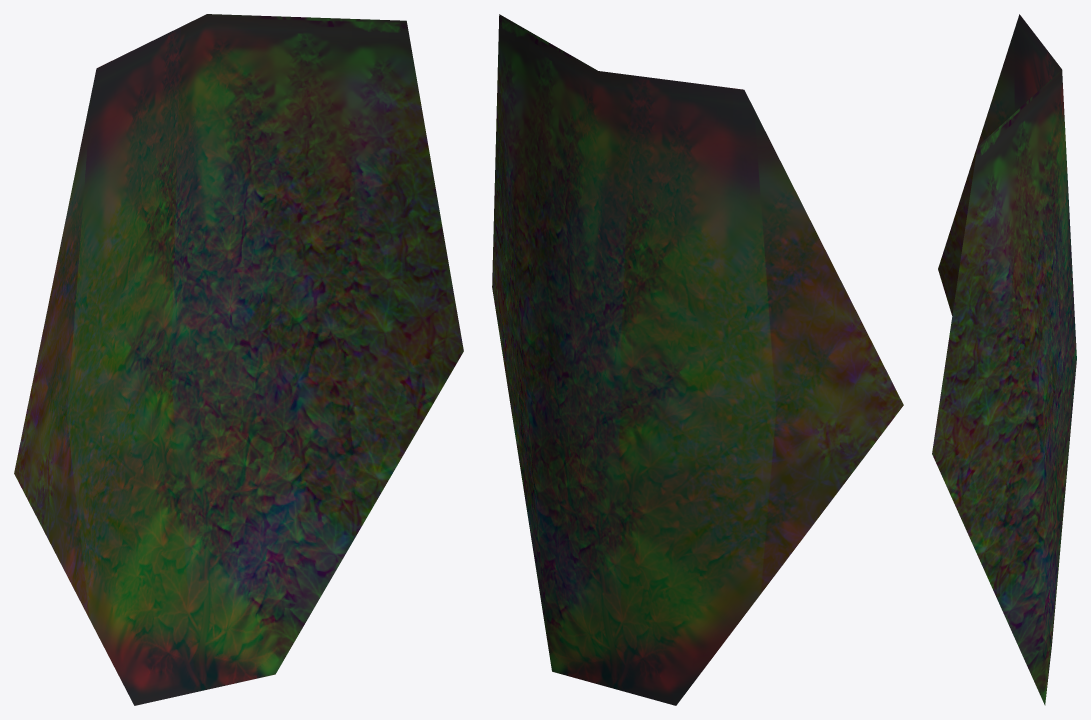
File: Ivy_Round_A.fbx
3 views of the same model, side by side, from view 1: azimuth 30°, elevation 25°; view 2: azimuth 150°, elevation 25°; view 3: azimuth 270°, elevation 25° (orthographic). The views are drawn at different scales.
Visible parts, largest first — view 1: ivy_round; view 2: ivy_round; view 3: ivy_round.
Part boxes in pixels (box(x1,y1,x2,y2)): ivy_round: box(14, 14, 463, 705); ivy_round: box(492, 14, 903, 705); ivy_round: box(932, 14, 1076, 705).
Bounding box in the file's own units: 1.24 × 1.77 × 0.3804.
